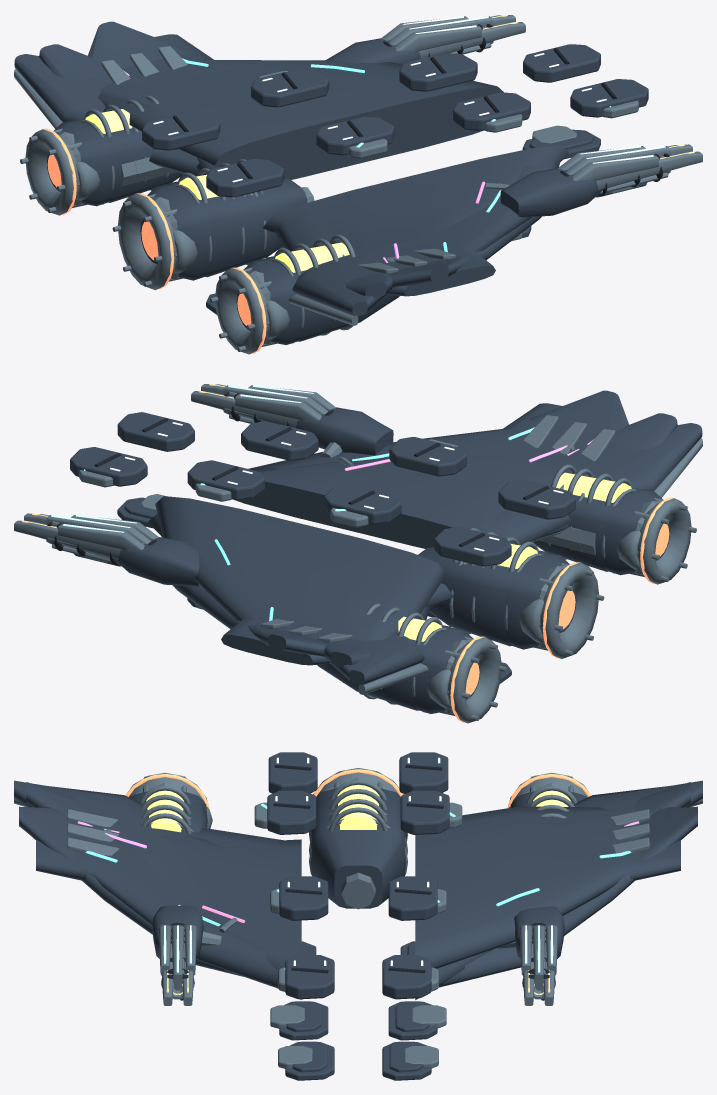
File: scavenger.glb
3 views of the same model, one above another, from view 1: azimuth 30°, elevation 25°; view 2: azimuth 150°, elevation 25°; view 3: azimuth 270°, elevation 25° (orthographic).
Parts seen in each view (by area): view 1: w_vane Fitting gunmetal, p_heavy Fitting gunmetal, w_razor Fitting gunmetal, e_nova Brushed fitting edges, w_phantom Fitting gunmetal, e_twin Fitting gunmetal, e_nova Fitting gunmetal, w_prism Fitting gunmetal, m_heavy Fitting gunmetal, m_array Brushed fitting edges, e_fusion Brushed fitting edges, e_twin Brushed fitting edges (+9 smaller); view 2: w_vane Fitting gunmetal, p_heavy Fitting gunmetal, w_razor Fitting gunmetal, e_nova Brushed fitting edges, w_phantom Fitting gunmetal, e_twin Fitting gunmetal, e_nova Fitting gunmetal, m_heavy Fitting gunmetal, w_prism Fitting gunmetal, m_array Brushed fitting edges, e_fusion Brushed fitting edges, e_twin Brushed fitting edges (+10 smaller); view 3: w_vane Fitting gunmetal, p_heavy Fitting gunmetal, w_razor Fitting gunmetal, w_prism Fitting gunmetal, e_twin Fitting gunmetal, w_phantom Fitting gunmetal, p_light Brushed fitting edges, e_fusion Brushed fitting edges, m_array Brushed fitting edges, w_vane Brushed fitting edges, m_heavy Fitting gunmetal, p_aegis Fitting gunmetal (+10 smaller).
Part boxes in pixels (x1,y1,x2,y2): w_vane Fitting gunmetal: (97,34,559,296); p_heavy Fitting gunmetal: (142,44,648,314); w_razor Fitting gunmetal: (39,44,568,298); e_nova Brushed fitting edges: (20,128,276,354); w_phantom Fitting gunmetal: (14,54,483,315); e_twin Fitting gunmetal: (77,119,399,341); e_nova Fitting gunmetal: (47,120,303,344); w_prism Fitting gunmetal: (87,21,541,287); m_heavy Fitting gunmetal: (325,38,602,217); m_array Brushed fitting edges: (381,16,670,181); e_fusion Brushed fitting edges: (56,95,374,344); e_twin Brushed fitting edges: (76,157,314,339); w_vane Fitting gunmetal: (155,403,594,665); p_heavy Fitting gunmetal: (70,412,575,683); w_razor Fitting gunmetal: (148,413,677,667); e_nova Brushed fitting edges: (440,497,696,723); w_phantom Fitting gunmetal: (232,423,702,684); e_twin Fitting gunmetal: (317,488,639,710); e_nova Fitting gunmetal: (413,489,669,713); m_heavy Fitting gunmetal: (114,407,393,586); w_prism Fitting gunmetal: (173,390,629,656); m_array Brushed fitting edges: (46,385,335,550); e_fusion Brushed fitting edges: (342,464,660,713); e_twin Brushed fitting edges: (427,527,640,708); w_vane Fitting gunmetal: (36,806,680,988); p_heavy Fitting gunmetal: (267,752,449,1080); w_razor Fitting gunmetal: (26,782,690,999); w_prism Fitting gunmetal: (19,806,697,987); e_twin Fitting gunmetal: (138,796,578,908); w_phantom Fitting gunmetal: (14,780,702,854); p_light Brushed fitting edges: (254,802,462,1068); e_fusion Brushed fitting edges: (135,778,581,833); m_array Brushed fitting edges: (159,925,557,984); w_vane Brushed fitting edges: (67,809,649,855); m_heavy Fitting gunmetal: (152,905,564,958); p_aegis Fitting gunmetal: (286,942,429,1072).
Bounding box in the file's own units: 44.24 × 13.82 × 53.42.
